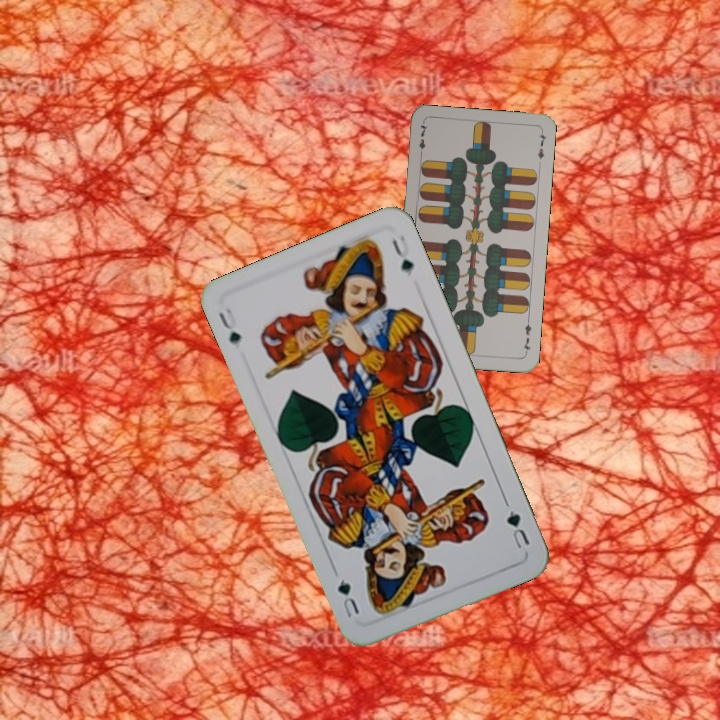E7: (519, 316, 534, 357), (415, 119, 430, 160)
GU: (502, 506, 533, 552), (214, 304, 244, 348)
